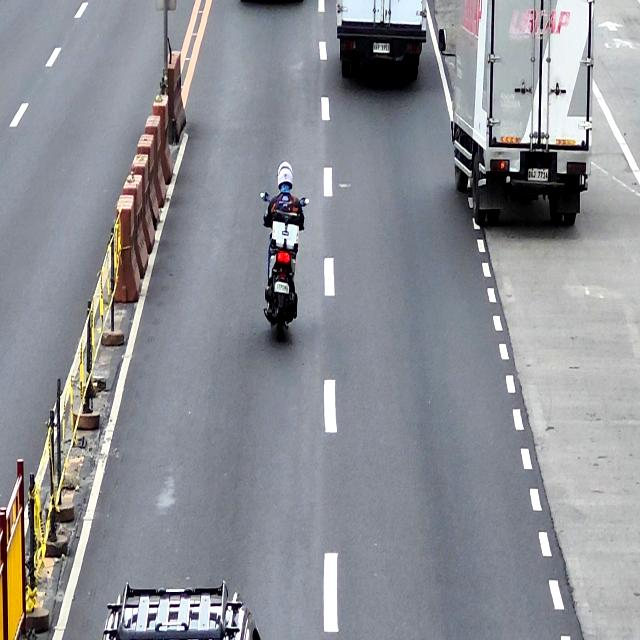License-Plate: (527, 167, 549, 183), (274, 280, 290, 296), (372, 41, 391, 54)
Motorcycle: (260, 189, 310, 343)
Truck: (438, 0, 598, 232), (336, 0, 430, 85)
